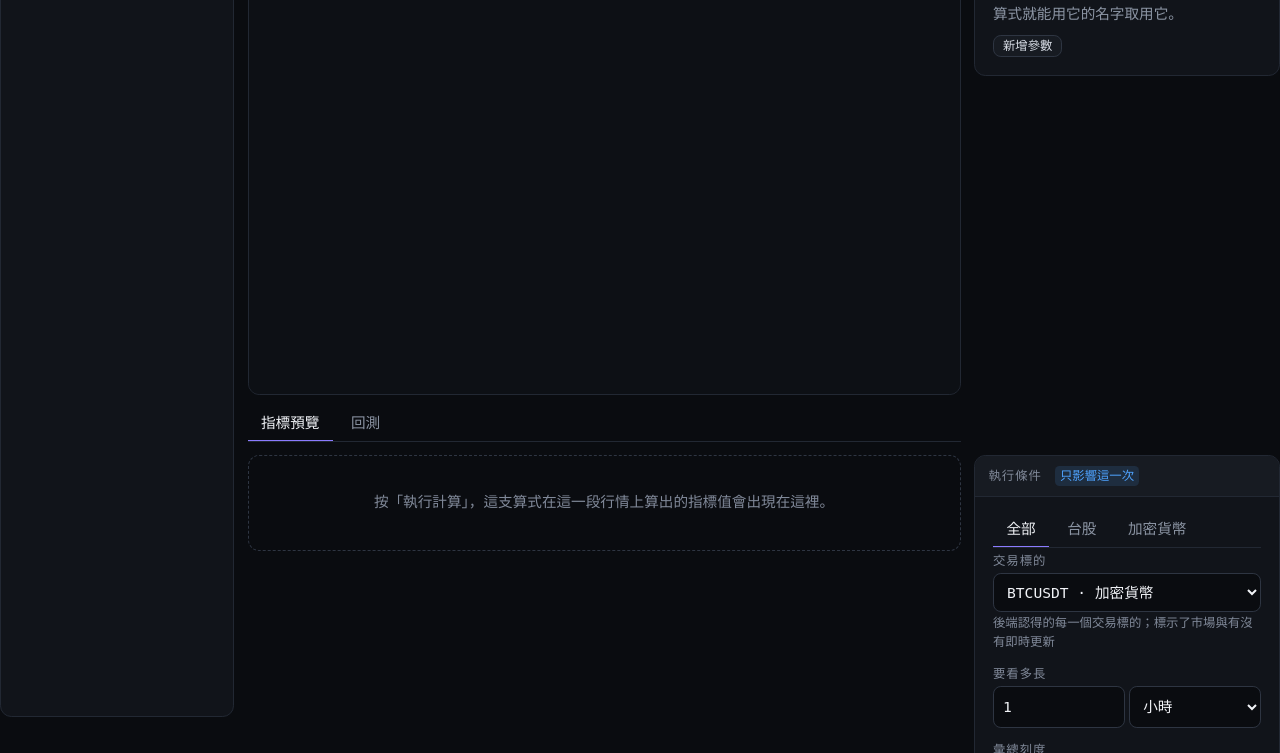
Test: 策略腳本畫面上的參數 › 名稱空白時就地說明，而且完全不執行
Click the button with test id "add-parameter-button". click: (1028, 46)
box: [993,35,1062,57]
(page scrolled)
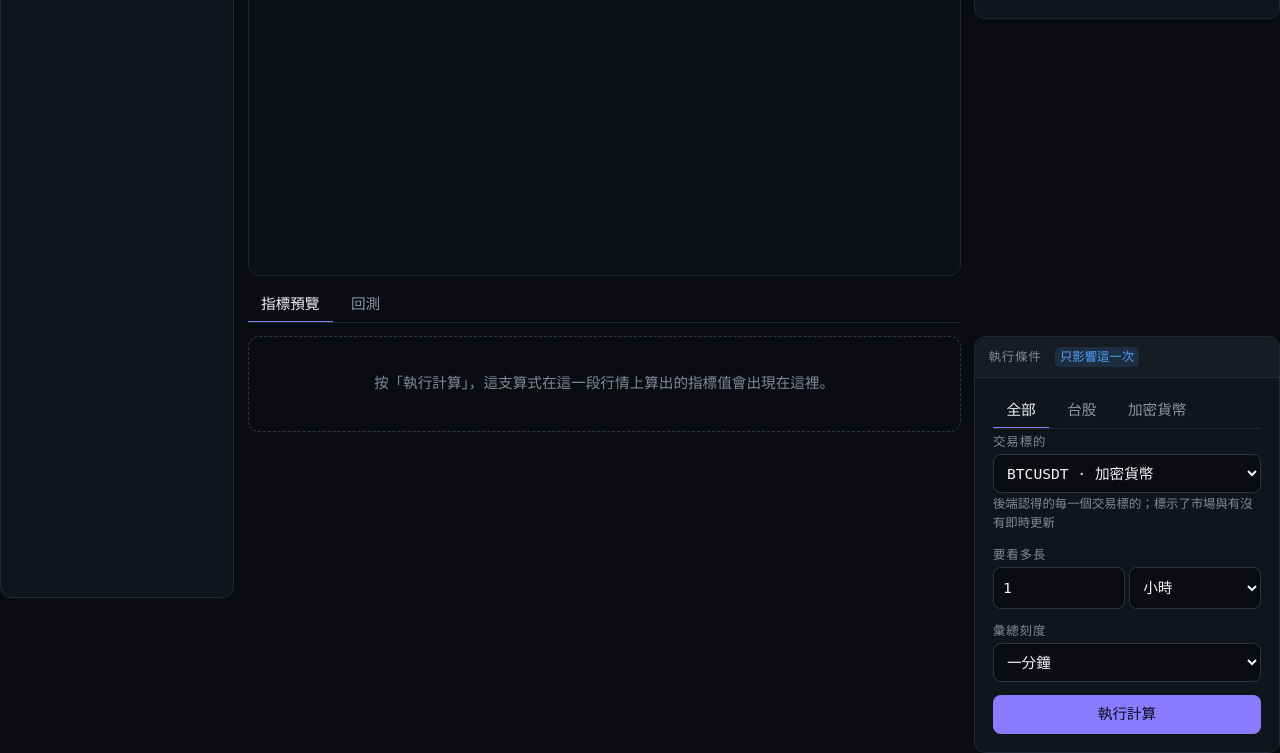
Submit the form, box [248,336,1279,752]
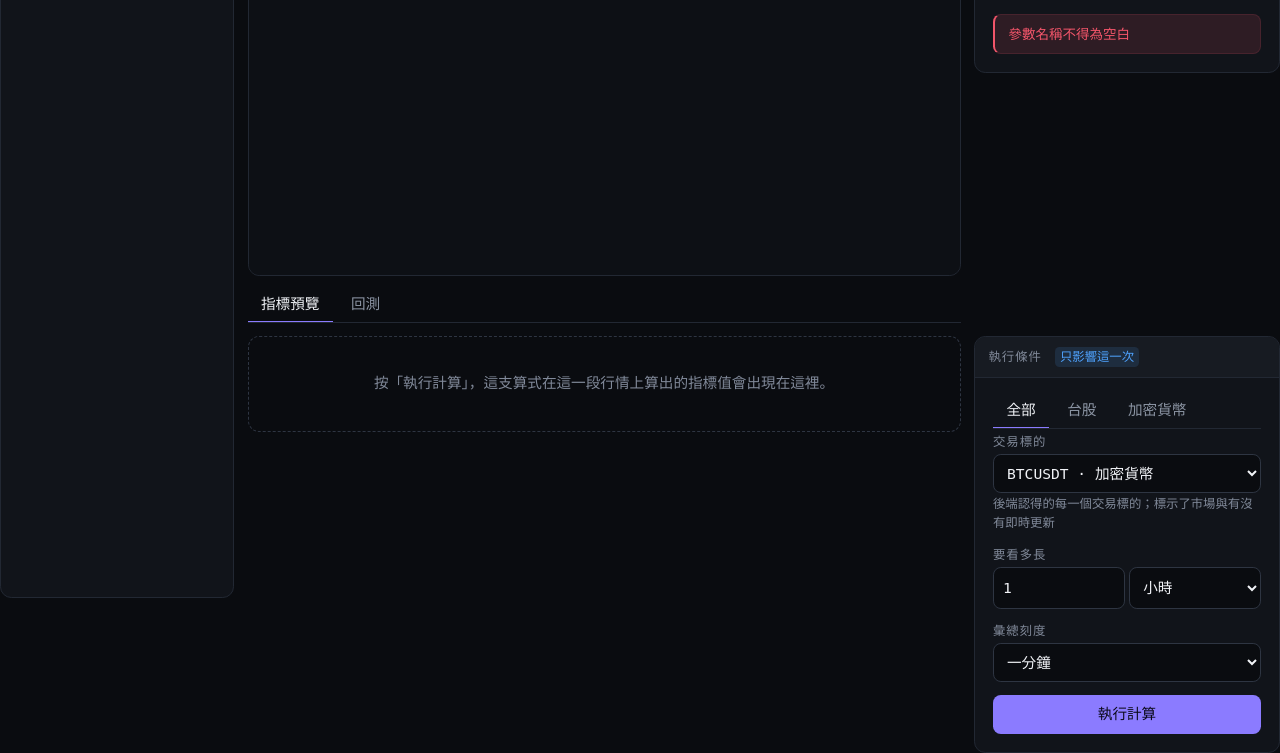
Now the message with test id "parameters-alert" shows "不得為空白", box [1008,26,1130,42]
